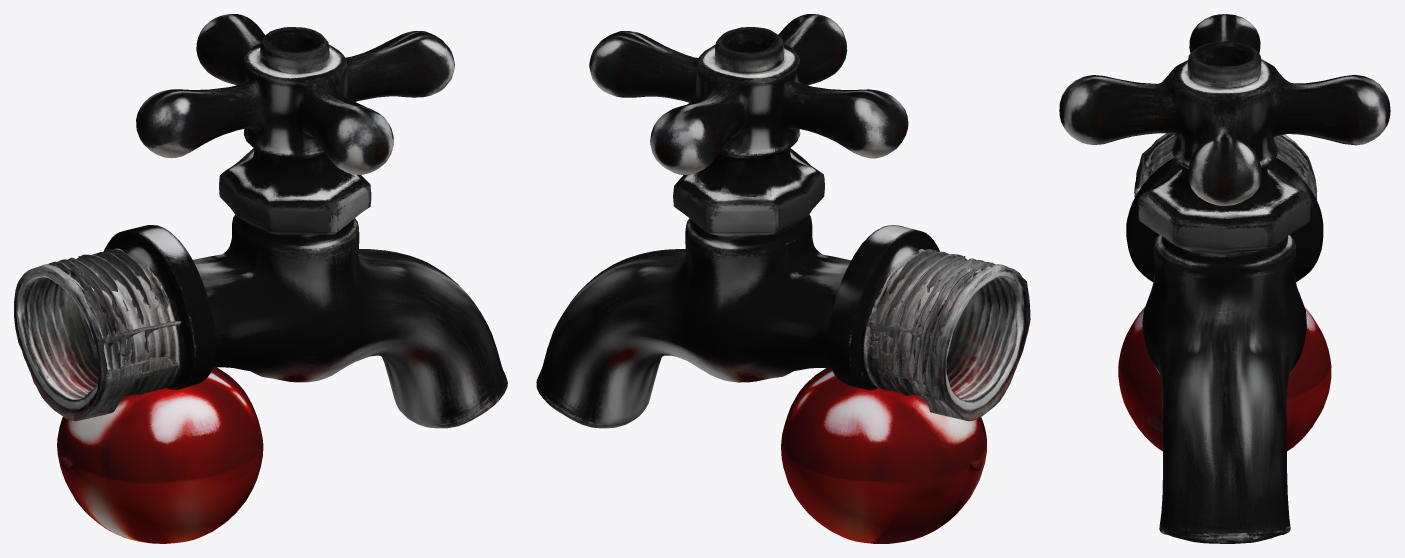
The model's file is faucet.glb.
3 views of the same model, side by side, from view 1: azimuth 30°, elevation 25°; view 2: azimuth 150°, elevation 25°; view 3: azimuth 270°, elevation 25° (orthographic). The views are drawn at different scales.
Visible parts, largest first — view 1: world; view 2: world; view 3: world.
Part boxes in pixels (x1,y1,x2,y2): world: (14, 14, 507, 543); world: (536, 14, 1030, 543); world: (1059, 14, 1390, 543).
Size of the model in its own units: 0.9975 by 0.9987 by 0.634.
1 material, 1 textured.
